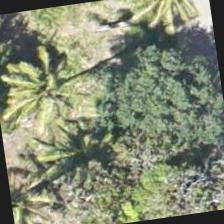Kelapa_Sawit: (31, 108, 133, 210), (0, 40, 90, 142), (6, 156, 67, 223)
